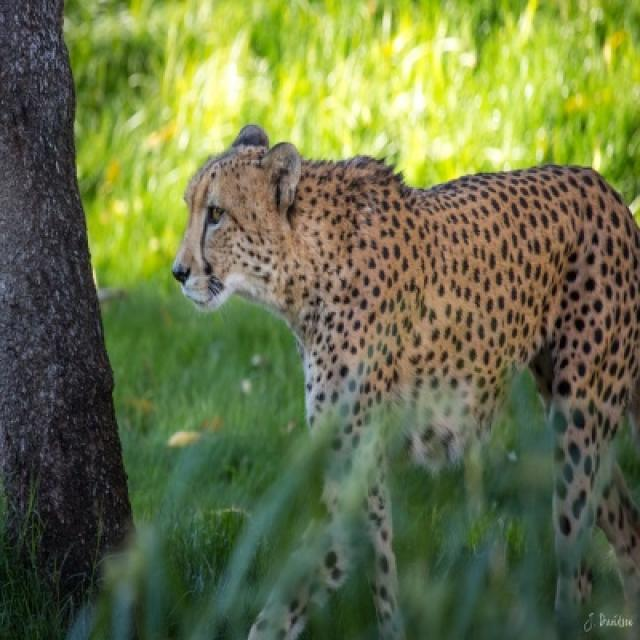Cheetah: (173, 125, 638, 573)
